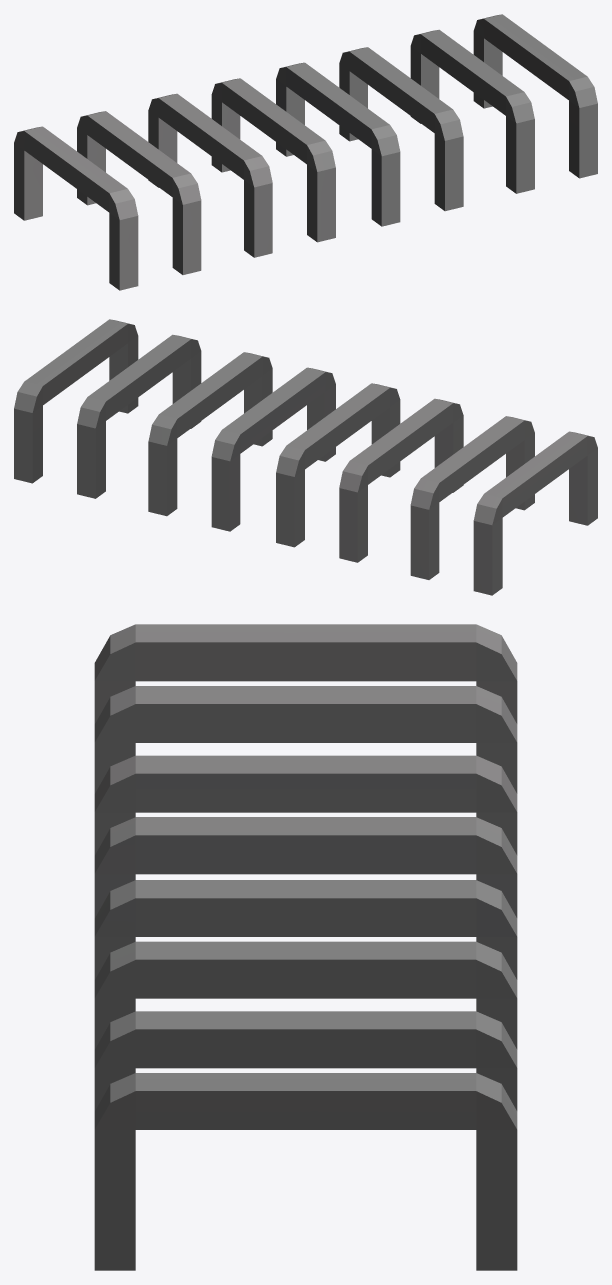
Rendered from Bicicletário.fbx.
3 renders of one model, top to bottom at view 1: azimuth 30°, elevation 25°; view 2: azimuth 150°, elevation 25°; view 3: azimuth 270°, elevation 25°, orthographic. The views are drawn at different scales.
Visible parts, largest first — view 1: Bicicletário; view 2: Bicicletário; view 3: Bicicletário.
Boxes of the visible parts, <box> form: Bicicletário: <box>14,14,597,290</box>; Bicicletário: <box>14,319,597,595</box>; Bicicletário: <box>94,624,517,1270</box>.
Size of the model in its own units: 155 by 27.71 by 59.11.
